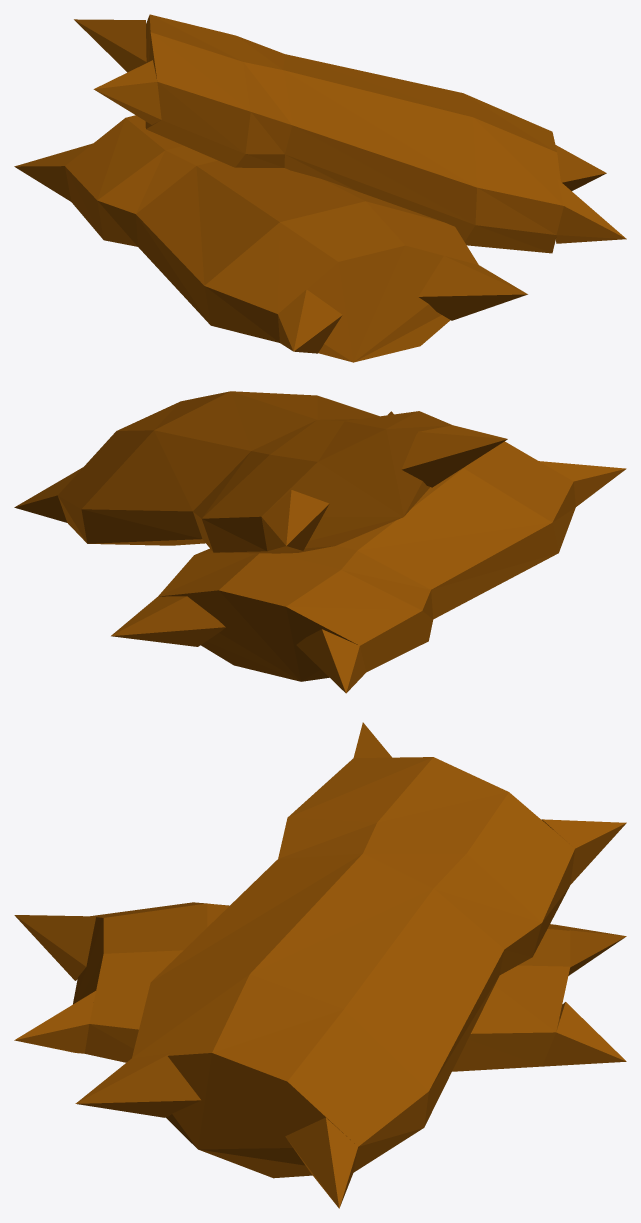
File: sacks.obj
3 views of the same model, one above another, from view 1: azimuth 30°, elevation 25°; view 2: azimuth 150°, elevation 25°; view 3: azimuth 270°, elevation 25° (orthographic). The views are drawn at different scales.
Visible parts, largest first — view 1: sacks_back; view 2: sacks_back; view 3: sacks_back.
Boxes of the visible parts, box(x1,y1,x2,y2) form: sacks_back: box(14, 14, 626, 362); sacks_back: box(14, 391, 626, 693); sacks_back: box(14, 722, 626, 1208).
Size of the model in its own units: 1.35 by 0.58 by 1.3.
